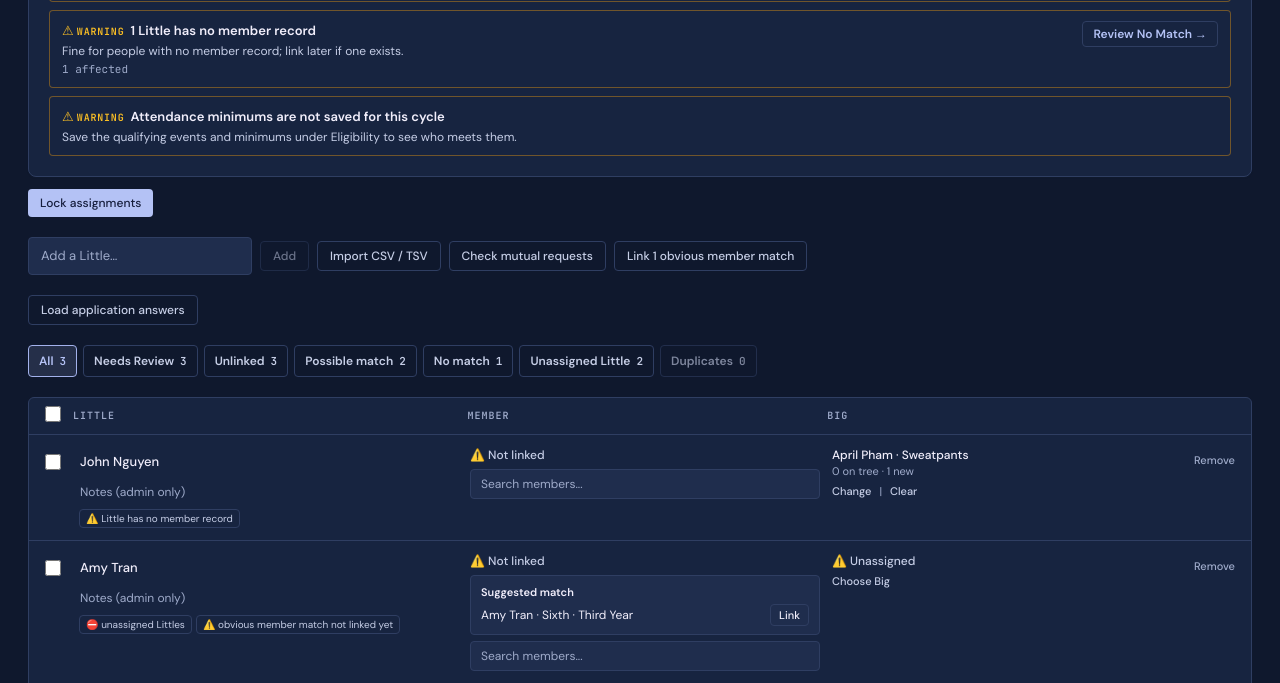
Test: filters, bulk actions and activity › shows filter chips with counts and filters the rows
(page scrolled)
Expected: the button "Possible match 2" is shown, [294,344,417,376]
Click the button "Unassigned Little 2" at [587, 360], box [519,344,654,376]
(page scrolled)
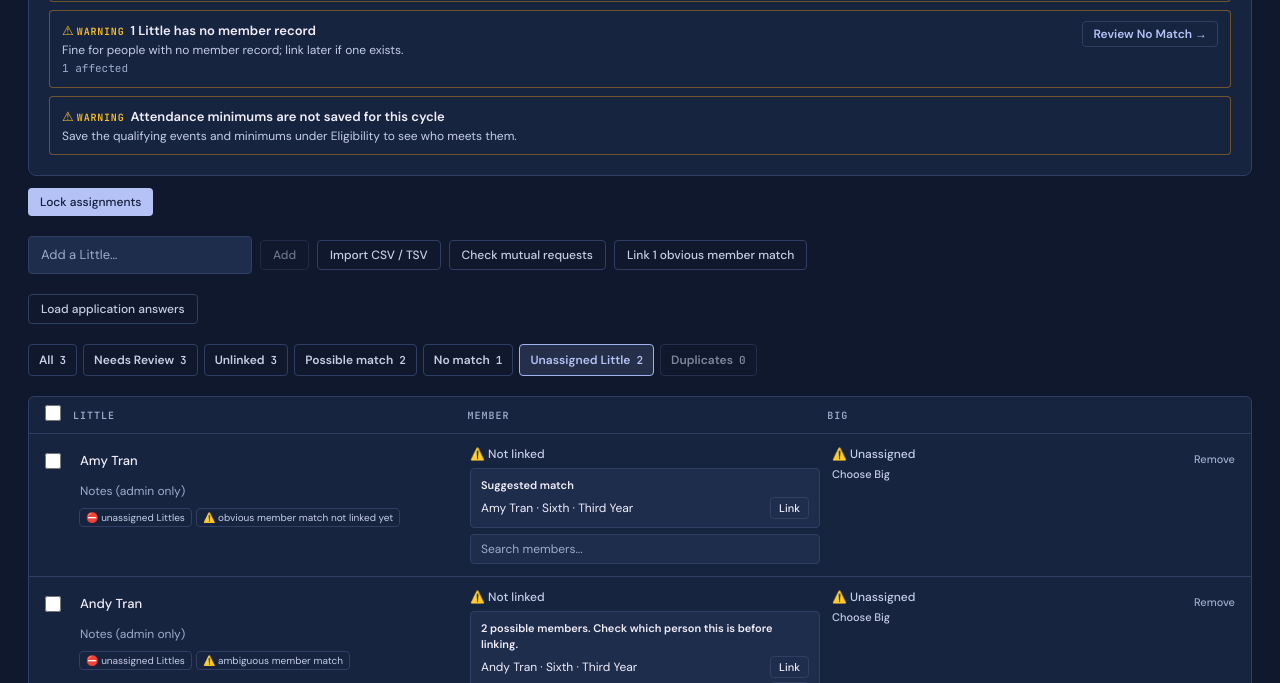
Expected: the number of fields named "Little name" is 2, [73,446,458,476]; [73,589,458,619]
